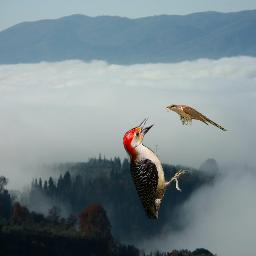Cuckoo: (165, 104, 227, 131)
Woodpecker: (123, 117, 190, 219)
